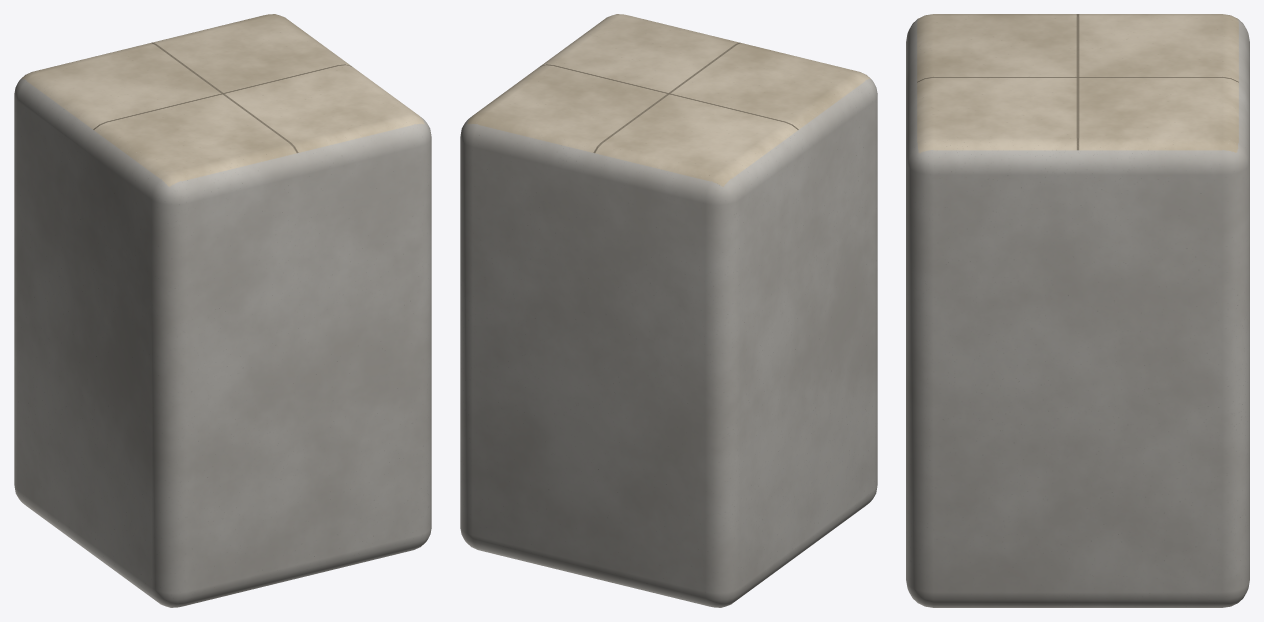
File: SM_Tile_Warm.fbx
3 renders of one model, left to right at view 1: azimuth 30°, elevation 25°; view 2: azimuth 150°, elevation 25°; view 3: azimuth 270°, elevation 25°, orthographic. The views are drawn at different scales.
Parts seen in each view (by area): view 1: SM_Tile_Warm; view 2: SM_Tile_Warm; view 3: SM_Tile_Warm.
Part boxes in pixels (<box>): SM_Tile_Warm: <box>14,14,431,607</box>; SM_Tile_Warm: <box>460,14,877,607</box>; SM_Tile_Warm: <box>906,14,1249,607</box>.
Bounding box in the file's own units: 2 × 3 × 2.
